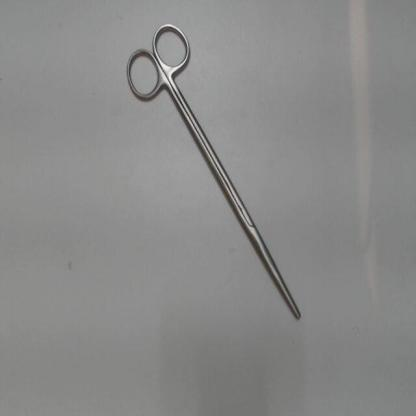9 Metzenbaum Scissors: (121, 15, 306, 331)
